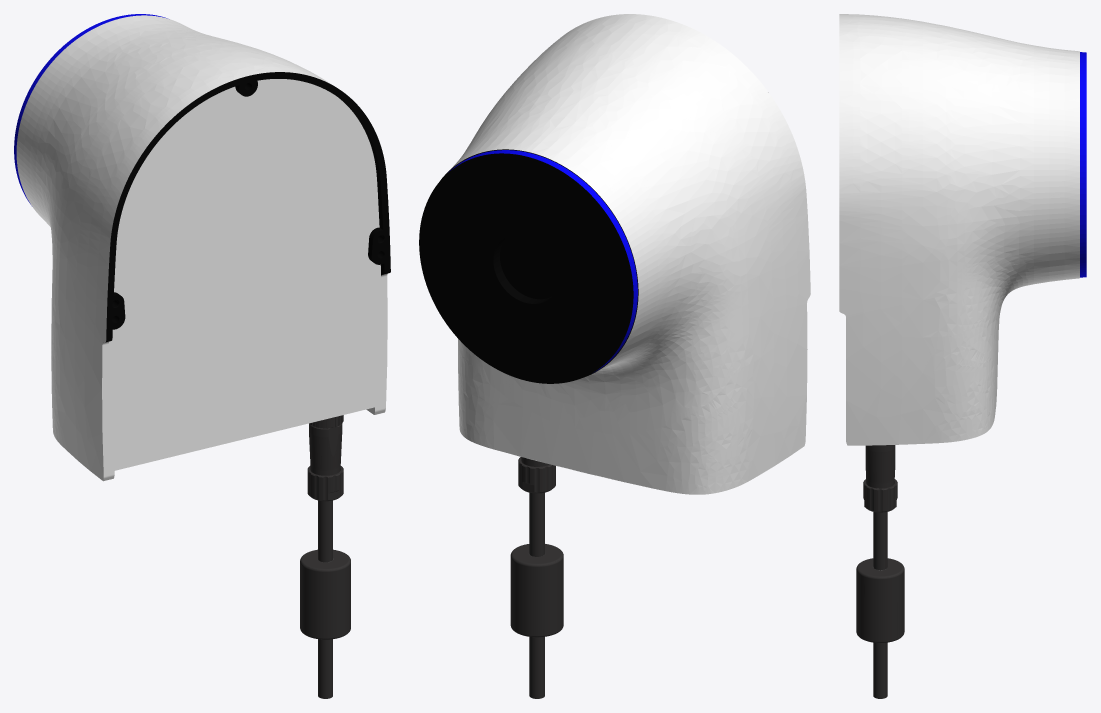
3 views of the same model, side by side, from view 1: azimuth 30°, elevation 25°; view 2: azimuth 150°, elevation 25°; view 3: azimuth 270°, elevation 25° (orthographic). The views are drawn at different scales.
Parts seen in each view (by area): view 1: tmp_export_base; view 2: tmp_export_base; view 3: tmp_export_base.
Boxes of the visible parts, x1,y1,x2,y2 form: tmp_export_base: [14, 14, 390, 698]; tmp_export_base: [419, 14, 810, 698]; tmp_export_base: [839, 14, 1086, 698].
Size of the model in its own units: 0.1356 by 0.108 by 0.2995.
1 material, 1 textured.
